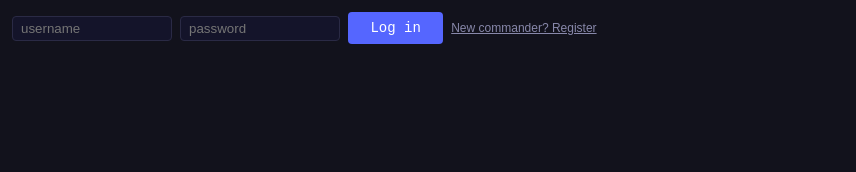
Scenario: LoginForm › shows the server error message on a failed login
Click the button with test id "login-submit". click: (396, 28)
box: [348,12,443,44]
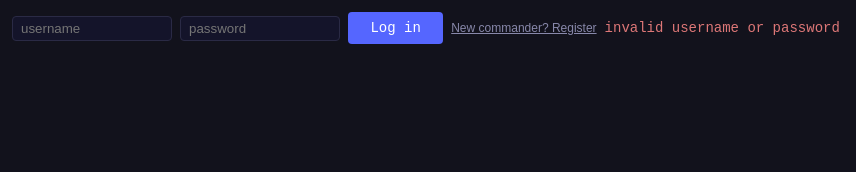
Result: the text "invalid username or password" is shown at [605,20,840,36]
